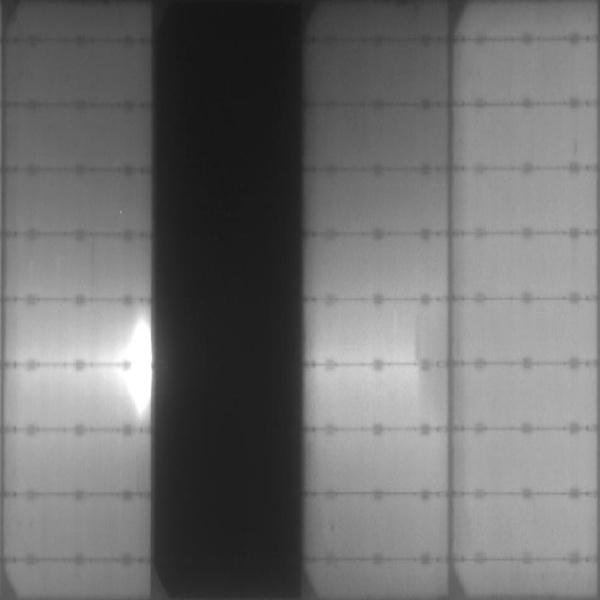hot_spot: (113, 315, 152, 419)
no_electricity: (155, 1, 303, 595)
